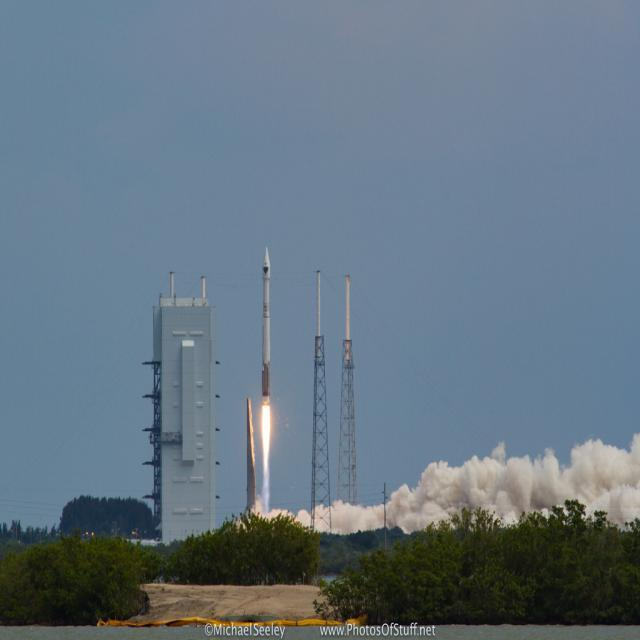Missile: (262, 242, 270, 408)
